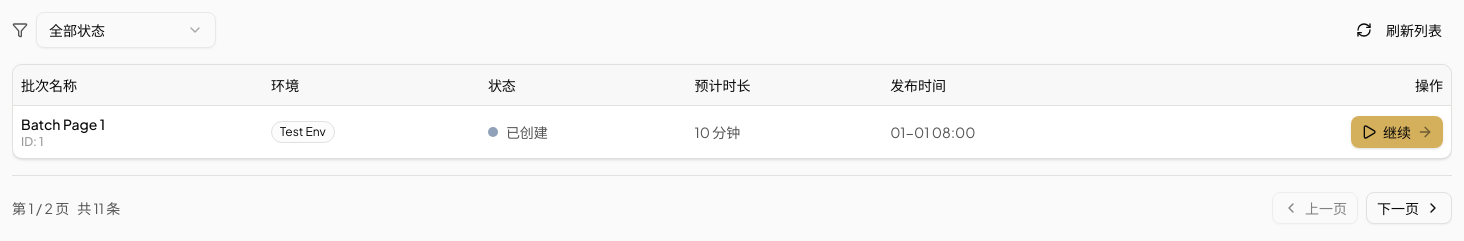
it: BatchList › requests the next page and shows pagination summary
Expected: the text "Batch Page 1" is shown, [21, 114, 105, 132]
Expected: the text "第 1 / 2 页" is shown, [12, 198, 120, 218]
Step 1. Click the button "下一页" → [1409, 208], box [1366, 192, 1452, 224]
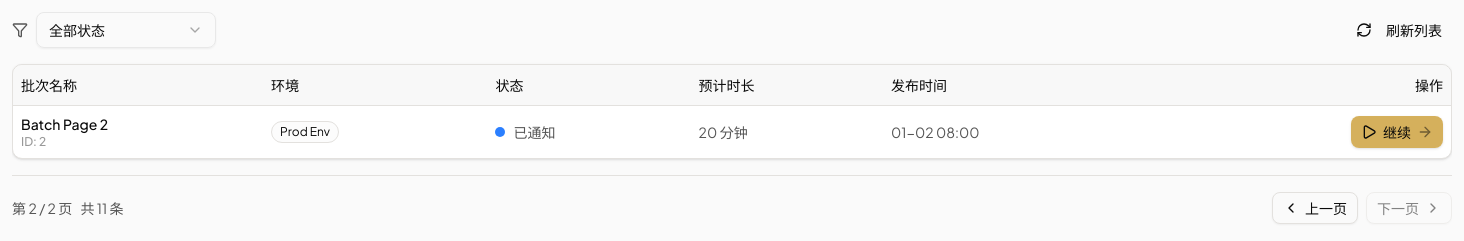
Now the text "Batch Page 2" is shown, box [21, 114, 108, 132]
Now the text "第 2 / 2 页" is shown, box [12, 198, 124, 218]
